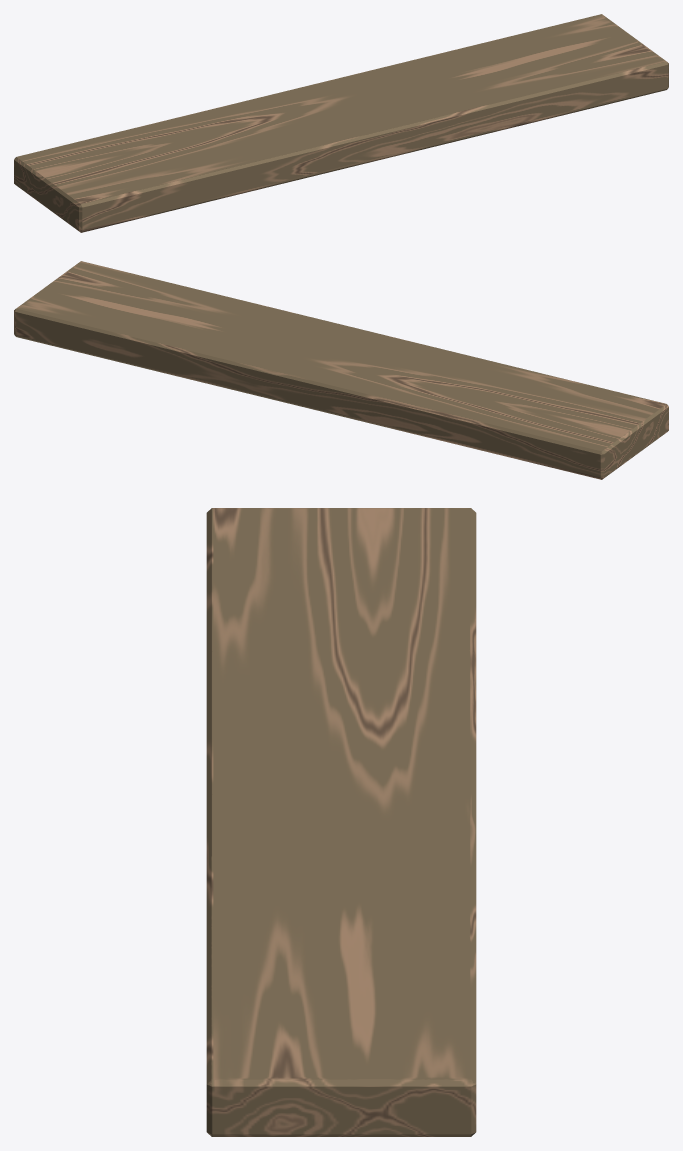
File: woodenPlank.fbx
The picture shows the model from 3 angles, top to bottom: view 1: azimuth 30°, elevation 25°; view 2: azimuth 150°, elevation 25°; view 3: azimuth 270°, elevation 25°; orthographic projection. The views are drawn at different scales.
Visible parts, largest first — view 1: Cube.011; view 2: Cube.011; view 3: Cube.011.
Part boxes in pixels (box(x1,y1,x2,y2)): Cube.011: box(14, 14, 668, 232); Cube.011: box(14, 261, 668, 479); Cube.011: box(206, 508, 476, 1136).
Size of the model in its own units: 198 by 9.18 by 39.28.
Materials: 1 (1 with a texture image).
